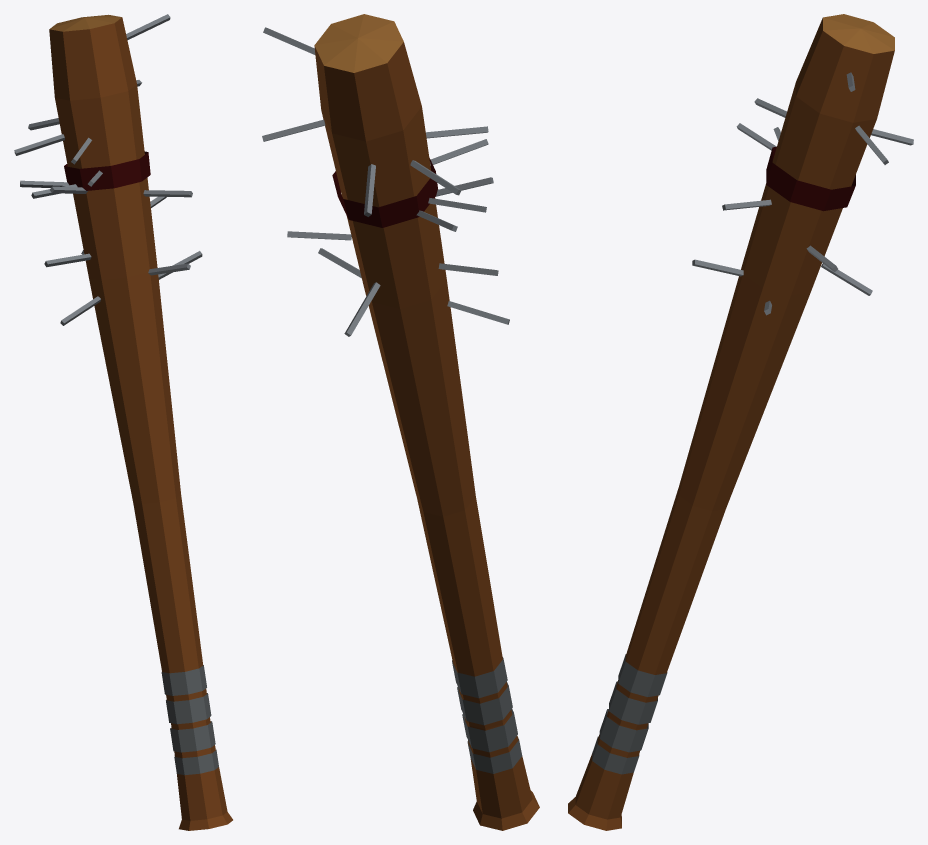
Rendered from SM_Wep_NailBat.glb.
3 renders of one model, left to right at view 1: azimuth 30°, elevation 25°; view 2: azimuth 150°, elevation 25°; view 3: azimuth 270°, elevation 25°, orthographic. The views are drawn at different scales.
Visible parts, largest first — view 1: SM_Wep_NailBat; view 2: SM_Wep_NailBat; view 3: SM_Wep_NailBat.
Boxes of the visible parts, left/top/right/bottom form: SM_Wep_NailBat: left=14, top=14, right=232, bottom=830; SM_Wep_NailBat: left=262, top=14, right=539, bottom=830; SM_Wep_NailBat: left=568, top=14, right=913, bottom=830.
Bounding box in the file's own units: 0.1577 × 0.6922 × 0.2713.
1 material, 1 textured.
